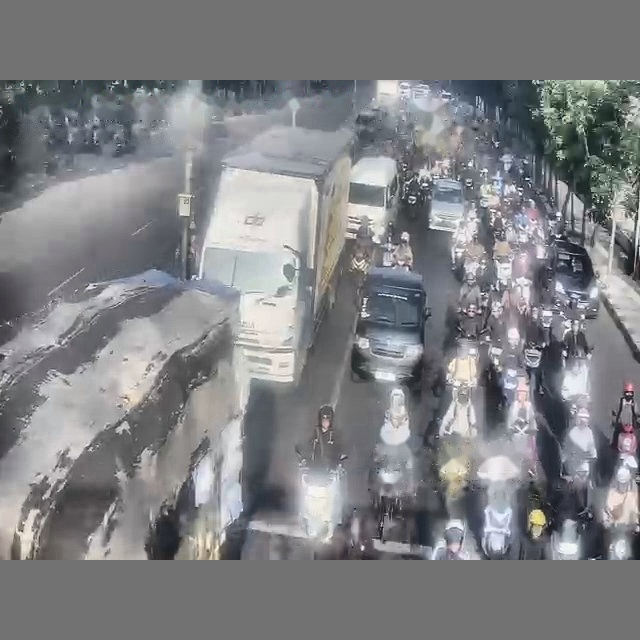Mobil: (351, 267, 430, 392), (550, 238, 599, 318), (429, 178, 464, 233)
Motor: (299, 455, 346, 541)
Truk: (198, 126, 353, 386)
